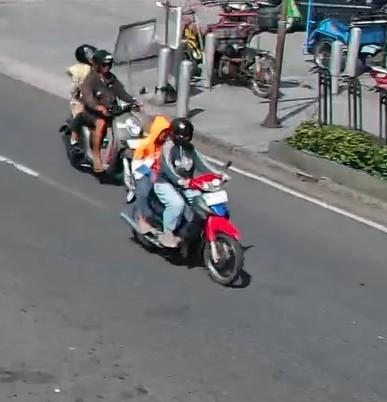Helmet: (171, 118, 193, 144), (75, 44, 96, 64), (93, 49, 113, 68)
Number Plate: (202, 190, 227, 205)
